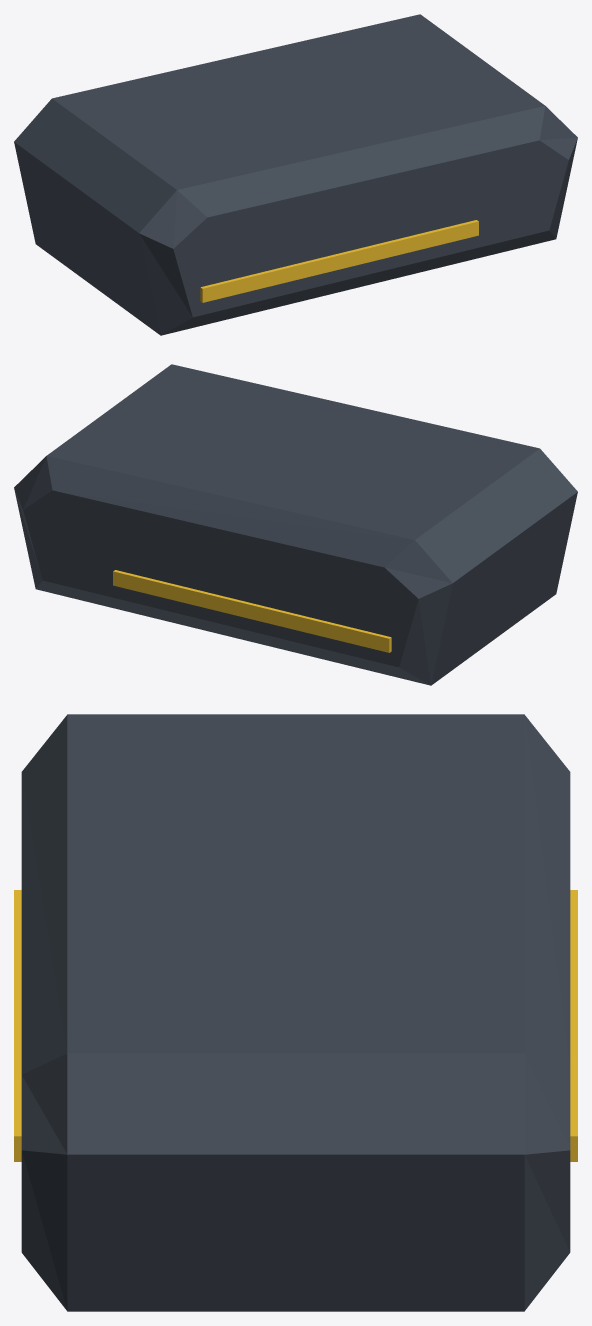
The model's file is hopper_low_pro.glb.
The picture shows the model from 3 angles, top to bottom: view 1: azimuth 30°, elevation 25°; view 2: azimuth 150°, elevation 25°; view 3: azimuth 270°, elevation 25°; orthographic projection. The views are drawn at different scales.
Visible parts, largest first — view 1: hopper_low_pro; view 2: hopper_low_pro; view 3: hopper_low_pro.
Part boxes in pixels (bbox=[...]): hopper_low_pro: bbox=[14, 14, 577, 335]; hopper_low_pro: bbox=[14, 364, 577, 685]; hopper_low_pro: bbox=[14, 714, 577, 1311].
Size of the model in its own units: 0.162 by 0.05 by 0.0987.
